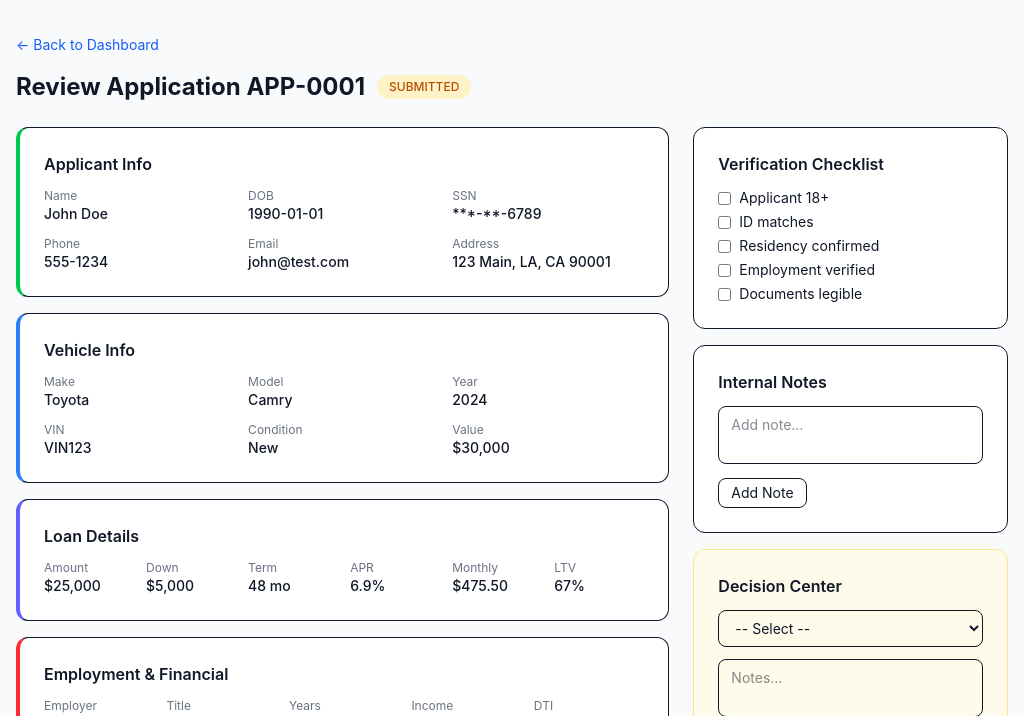
LoanOfficerReviewPage › handles add note failure
The width and height of the screenshot is (1024, 716).
Expected: the element with test id "notes-section" is shown, top-left (693, 345), bottom-right (1008, 533)
Type "test" into the text box labelled "note" at [851, 435], box top-left (718, 406), bottom-right (983, 464)
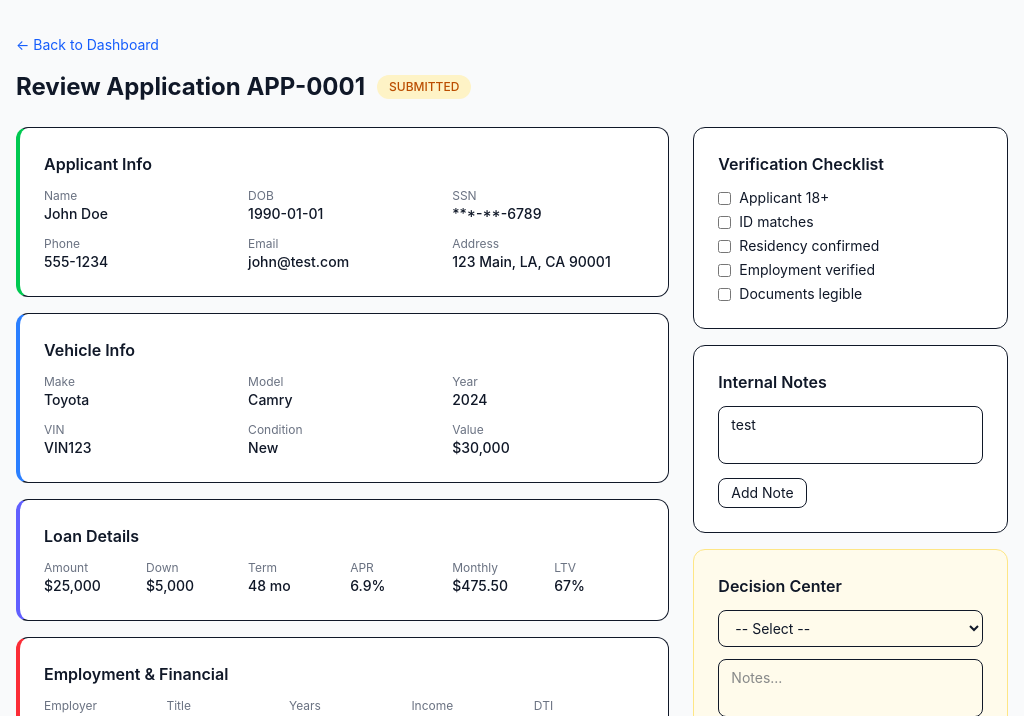
Click the button "Add Note" at [762, 493], box top-left (718, 478), bottom-right (807, 508)
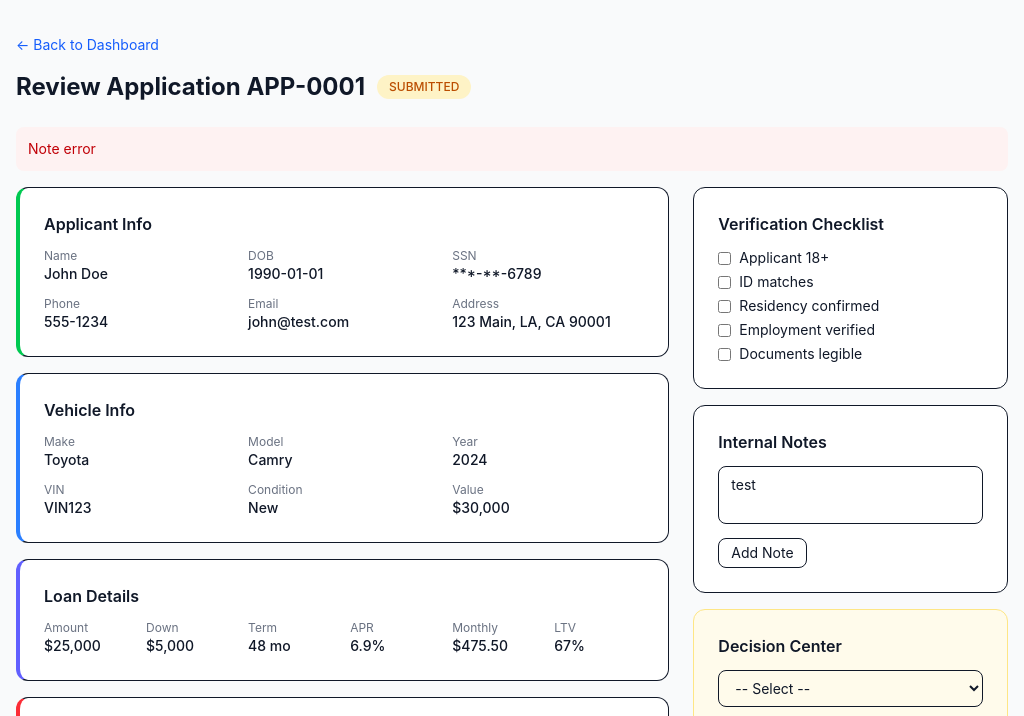
Expected: the message reads "Note error", top-left (28, 140), bottom-right (96, 157)
